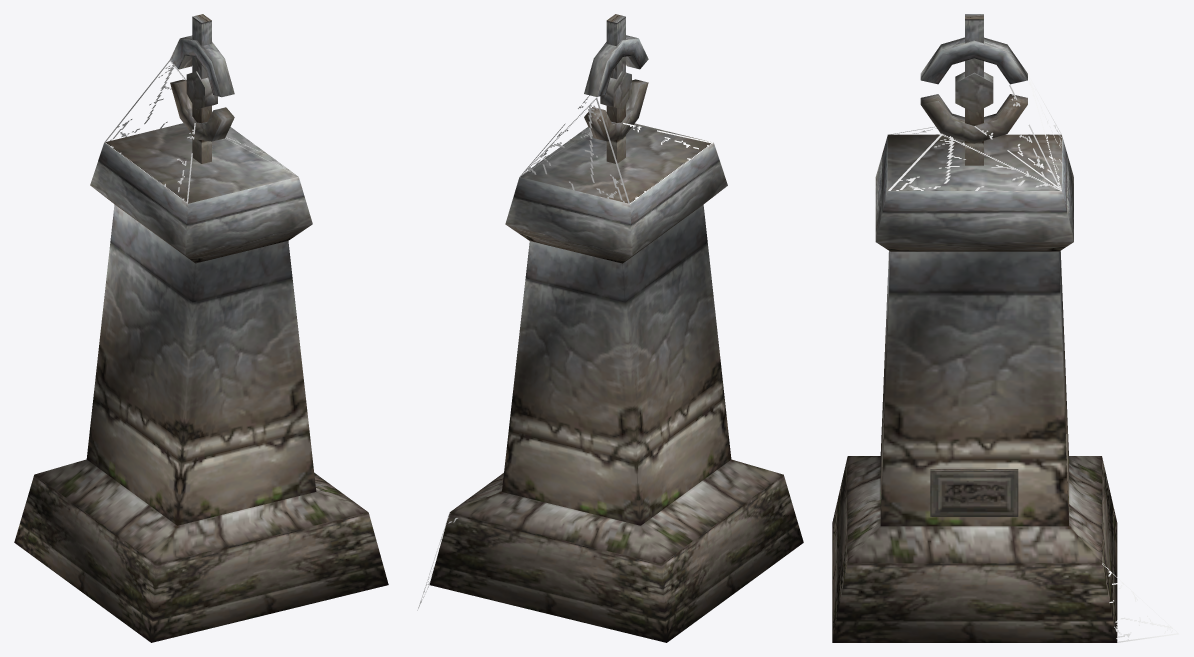
File: tombstonemonument01.glb
3 renders of one model, left to right at view 1: azimuth 30°, elevation 25°; view 2: azimuth 150°, elevation 25°; view 3: azimuth 270°, elevation 25°, orthographic. The views are drawn at different scales.
Bounding box in the file's own units: 2.52 × 5.53 × 3.07.
Materials: 4 (4 with a texture image).
